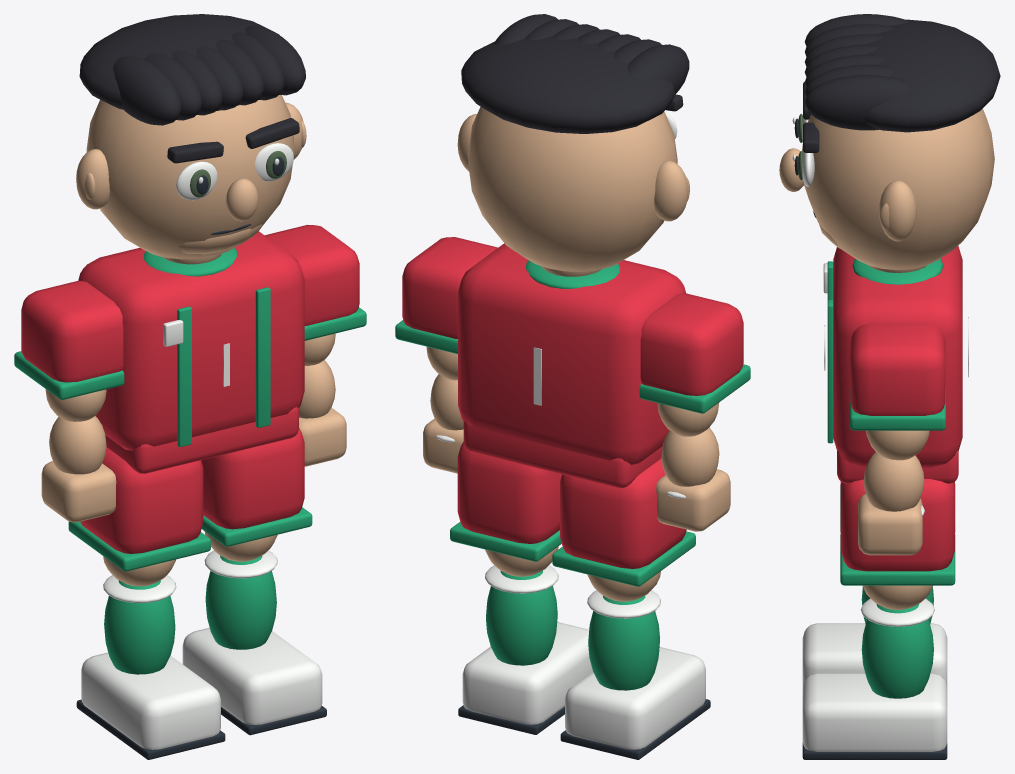
Rendered from Atlas.fbx.
The picture shows the model from 3 angles, left to right: view 1: azimuth 30°, elevation 25°; view 2: azimuth 150°, elevation 25°; view 3: azimuth 270°, elevation 25°; orthographic projection.
Parts seen in each view (by area): view 1: Torso, Head, Boot_Left, Boot_Right, Sleeve_Left, Shorts_Left, Shorts_Right, HairCap, Sleeve_Right, Sock_Left, Sock_Right, Waist (+33 smaller); view 2: Torso, Head, HairCap, Shorts_Left, Sleeve_Left, Boot_Left, Shorts_Right, Boot_Right, Sleeve_Right, Sock_Right, Sock_Left, Waist (+21 smaller); view 3: Head, Torso, HairCap, Boot_Right, Sleeve_Right, Shorts_Right, Sock_Right, Boot_Left, SweptLock.006, Hand_Right, Forearm_Right, ShortHem_Right (+18 smaller).
Boxes of the visible parts, x1,y1,x2,y2 form: Torso: (78, 231, 304, 450); Head: (86, 95, 294, 259); Boot_Left: (81, 652, 220, 749); Boot_Right: (182, 627, 322, 724); Sleeve_Left: (21, 280, 123, 382); Shorts_Left: (80, 447, 203, 553); Shorts_Right: (201, 428, 304, 529); HairCap: (79, 14, 279, 110); Sleeve_Right: (265, 224, 359, 325); Sock_Left: (104, 580, 175, 674); Sock_Right: (205, 555, 276, 649); Waist: (105, 407, 298, 473); Torso: (458, 243, 685, 464); Head: (468, 106, 677, 271); HairCap: (461, 35, 675, 133); Shorts_Left: (560, 458, 686, 568); Sleeve_Left: (640, 293, 743, 395); Boot_Left: (565, 647, 705, 749); Shorts_Right: (457, 442, 561, 543); Boot_Right: (462, 622, 592, 724); Sleeve_Right: (402, 237, 497, 338); Sock_Right: (486, 570, 557, 665); Sock_Left: (588, 595, 659, 690); Waist: (463, 421, 662, 487); Head: (802, 108, 994, 269); Torso: (833, 246, 962, 467); HairCap: (863, 19, 1000, 132); Boot_Right: (802, 673, 947, 751); Sleeve_Right: (850, 323, 945, 415); Shorts_Right: (840, 479, 954, 571); Sock_Right: (861, 604, 933, 698); Boot_Left: (802, 623, 947, 686); SweptLock.006: (804, 74, 909, 130); Hand_Right: (858, 494, 922, 555); Forearm_Right: (863, 452, 924, 511); ShortHem_Right: (840, 534, 955, 585).
Bounding box in the file's own units: 93.6 × 194 × 57.9.
